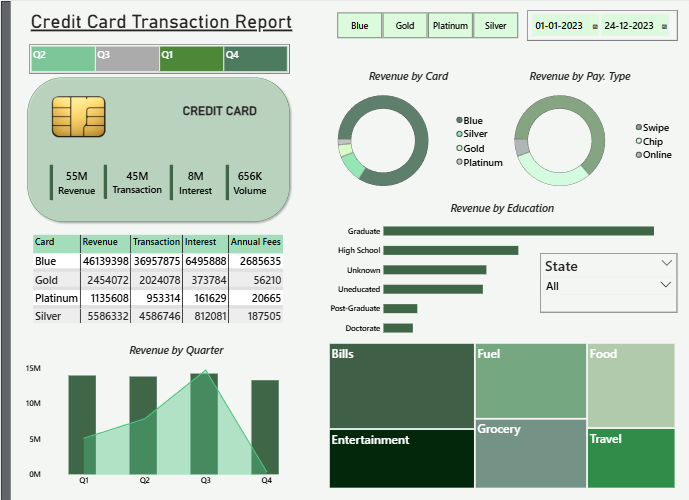

What the dashboard file says about the page in this screenshot:
{"tool":"powerbi","page":{"name":"Credi Card Transaction Report","canvas":[1920,1400],"ordinal":0},"visuals":[{"type":"textbox","box":[77.8,22.2,777.8,103.7],"z":0},{"type":"shape","box":[0,0,26.5,1400],"z":1000},{"type":"lineClusteredColumnComboChart","title":" Revenue by Quarter","fields":{"Category":["credit_card.quarter"],"Y":["Sum(credit_card.Revenue)"],"Y2":["Sum(credit_card.Total_Trans_Vol)"]},"box":[64.5,948.4,845.2,409.7],"z":2000},{"type":"treemap","title":"Revenue by Exp. Type","fields":{"Group":["credit_card.Exp_Type"],"Values":["Sum(credit_card.Revenue)"]},"box":[909.7,948.4,967.7,409.7],"z":3000},{"type":"shape","box":[65,202.5,747.5,420],"z":4000},{"type":"cardVisual","fields":{"Data":["Sum(credit_card.Revenue)"]},"box":[106.5,425.8,209.7,158.1],"z":5000},{"type":"cardVisual","fields":{"Data":["Sum(credit_card.Total_Trans_Amt)"]},"box":[254.8,425.8,245.2,154.8],"z":6000},{"type":"cardVisual","fields":{"Data":["Sum(credit_card.Interest_Earned)"]},"box":[438.7,425.8,203.2,158.1],"z":7000},{"type":"cardVisual","fields":{"Data":["Sum(credit_card.Total_Trans_Vol)"]},"box":[593.5,425.8,193.5,158.1],"z":8000},{"type":"image","box":[123.7,226.3,181.6,194.7],"z":9000},{"type":"textbox","box":[500,281.8,230.3,81.8],"z":10000},{"type":"slicer","fields":{"Values":["credit_card.Week_Start_Date"]},"box":[1460.6,24.2,418.2,84.8],"z":11000},{"type":"treemap","fields":{"Group":["credit_card.quarter"],"Values":["CountNonNull(credit_card.Client_Num)"]},"box":[76.5,120.6,723.5,82.4],"z":12000},{"type":"donutChart","title":"Revenue by Card","fields":{"Category":["credit_card.Card_Category"],"Y":["Sum(credit_card.Revenue)"]},"box":[854.8,187.1,551.6,364.5],"z":13000},{"type":"clusteredBarChart","title":"Revenue by Education","fields":{"Category":["customer.Education_Level"],"Y":["Sum(credit_card.Revenue)"]},"box":[909.7,551.6,967.7,396.8],"z":14000},{"type":"tableEx","fields":{"Values":["credit_card.Card_Category","Sum(credit_card.Revenue)","Sum(credit_card.Total_Trans_Amt)","Sum(credit_card.Interest_Earned)","Sum(credit_card.Annual_Fees)"]},"box":[84.2,644.7,705.3,273.7],"z":15000},{"type":"donutChart","title":"Revenue by Pay. Type","fields":{"Y":["Sum(credit_card.Revenue)"],"Category":["credit_card.Use_Chip"]},"box":[1338.7,187.1,538.7,364.5],"z":16000},{"type":"slicer","fields":{"Values":["customer.state_cd"]},"box":[1496.8,700,380.6,164.5],"z":17000},{"type":"slicer","fields":{"Values":["credit_card.Card_Category"]},"box":[909.1,24.2,551.5,84.8],"z":18000}]}

Visuals, with their boxes in screenshot pixels (x1, y1, x2, y2), scaled from the page's 1920x1400 canvas onto the 689x500 screenshot:
textbox: <region>28, 8, 307, 45</region>
shape: <region>0, 0, 10, 499</region>
" Revenue by Quarter" lineClusteredColumnComboChart: <region>23, 339, 326, 485</region>
"Revenue by Exp. Type" treemap: <region>326, 339, 674, 485</region>
shape: <region>23, 72, 292, 222</region>
cardVisual - Sum(credit_card.Revenue): <region>38, 152, 113, 209</region>
cardVisual - Sum(credit_card.Total_Trans_Amt): <region>91, 152, 179, 207</region>
cardVisual - Sum(credit_card.Interest_Earned): <region>157, 152, 230, 209</region>
cardVisual - Sum(credit_card.Total_Trans_Vol): <region>213, 152, 282, 209</region>
image: <region>44, 81, 110, 150</region>
textbox: <region>179, 101, 262, 130</region>
slicer - credit_card.Week_Start_Date: <region>524, 9, 674, 39</region>
treemap - credit_card.quarter x CountNonNull(credit_card.Client_Num): <region>27, 43, 287, 72</region>
"Revenue by Card" donutChart: <region>307, 67, 505, 197</region>
"Revenue by Education" clusteredBarChart: <region>326, 197, 674, 339</region>
tableEx - credit_card.Card_Category x Sum(credit_card.Revenue): <region>30, 230, 283, 328</region>
"Revenue by Pay. Type" donutChart: <region>480, 67, 674, 197</region>
slicer - customer.state_cd: <region>537, 250, 674, 309</region>
slicer - credit_card.Card_Category: <region>326, 9, 524, 39</region>
